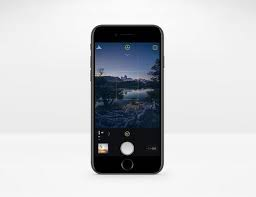camera: (119, 141, 136, 157)
